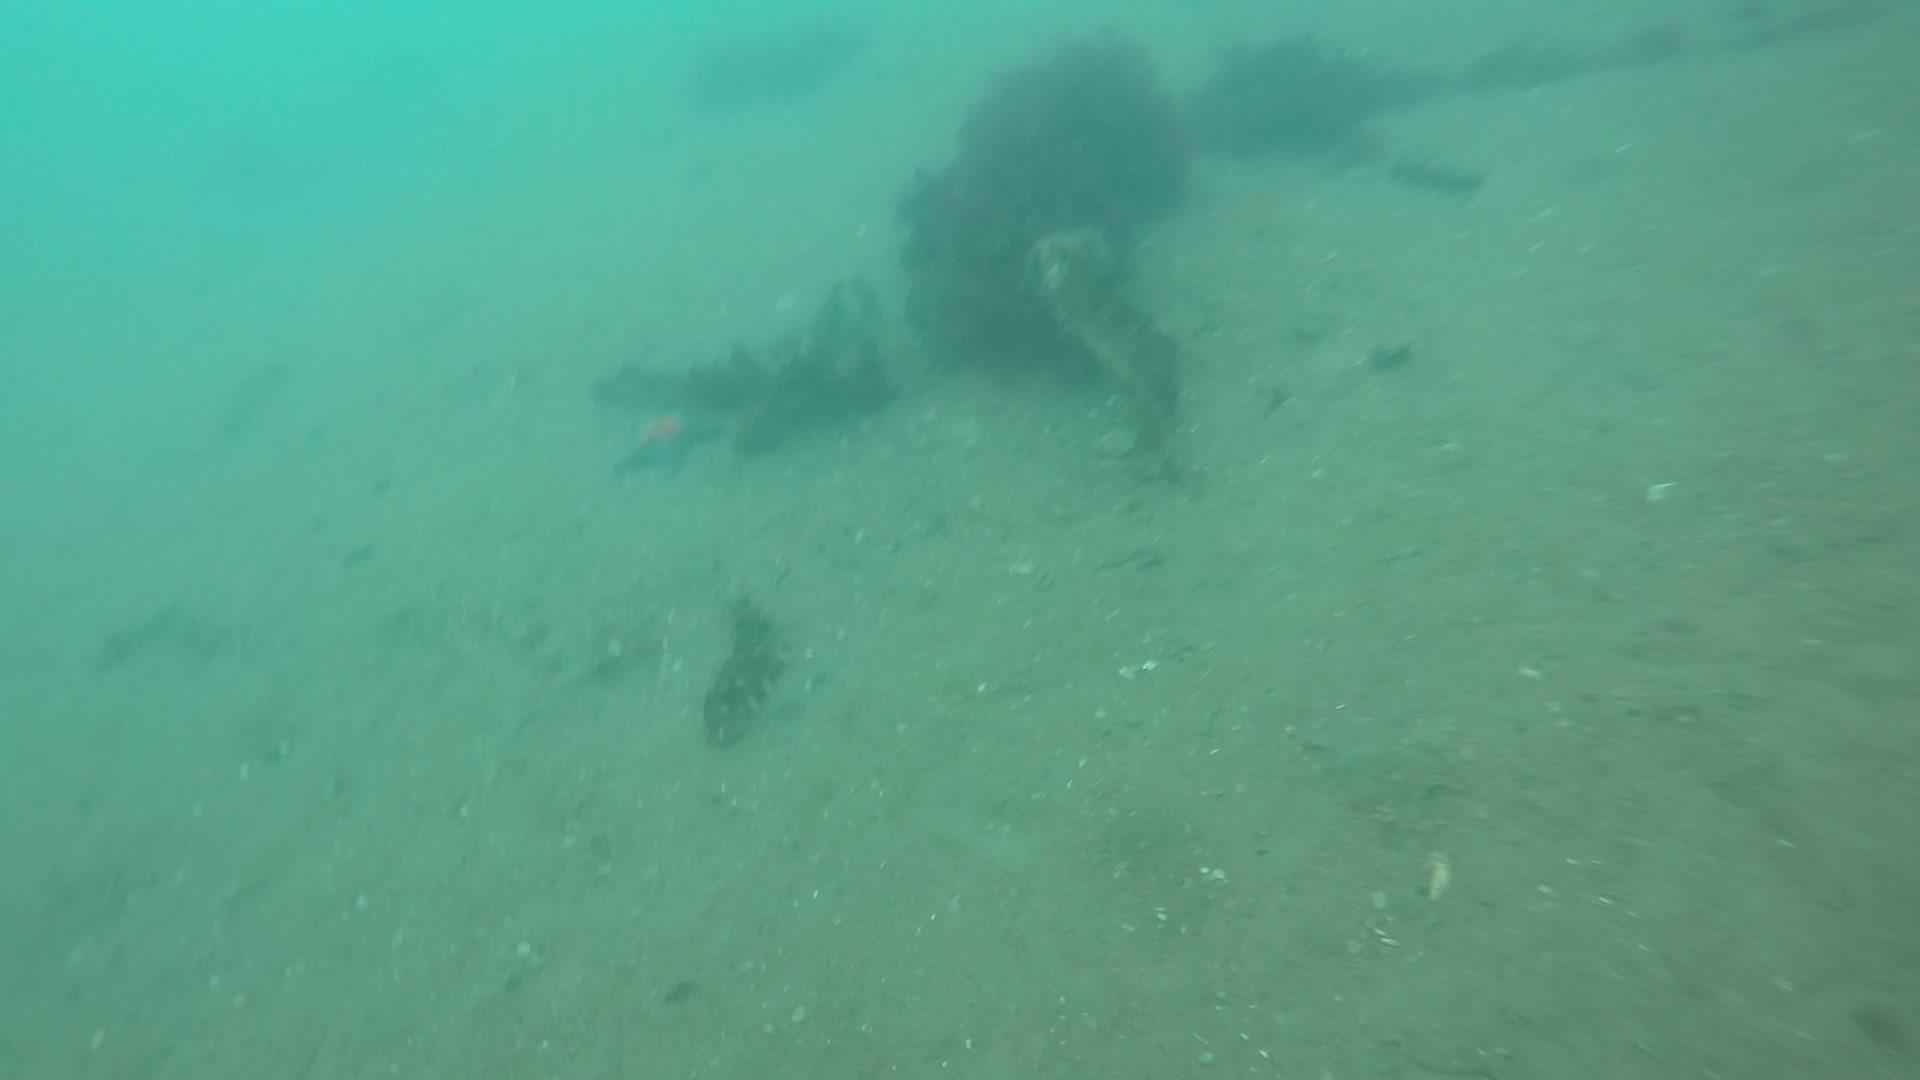holothurian: (703, 593, 793, 736), (1385, 144, 1491, 200)
starfish: (604, 404, 731, 487)
